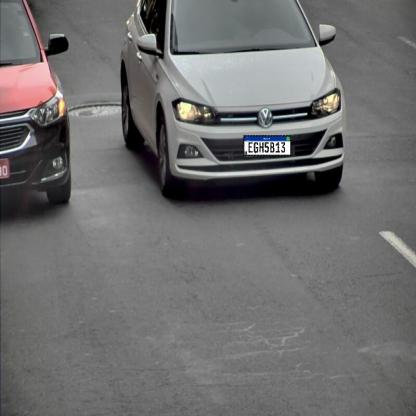PlacaM: (244, 135, 292, 156)
